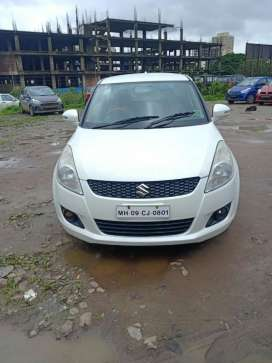license_plate: (115, 204, 171, 218)
